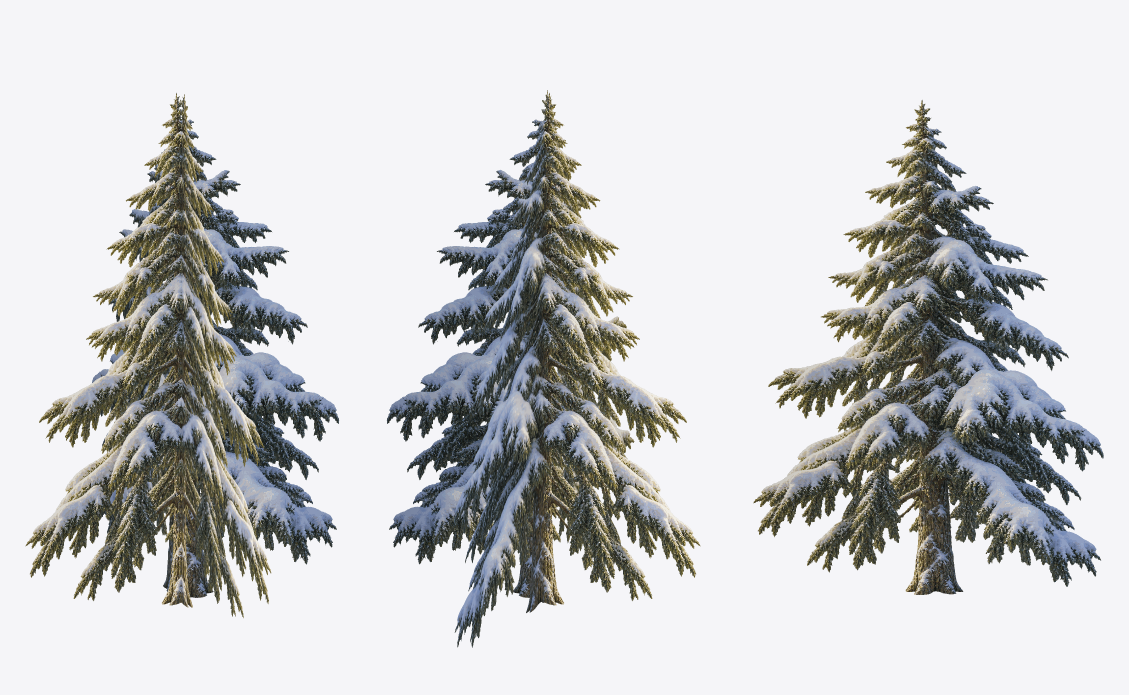
Rendered from pine-lod1.glb.
The picture shows the model from 3 angles, left to right: view 1: azimuth 30°, elevation 25°; view 2: azimuth 150°, elevation 25°; view 3: azimuth 270°, elevation 25°; orthographic projection. The views are drawn at different scales.
Parts seen in each view (by area): view 1: pine-lod1; view 2: pine-lod1; view 3: pine-lod1.
Boxes of the visible parts, <box> form: pine-lod1: <box>25,93,338,617</box>; pine-lod1: <box>387,90,700,647</box>; pine-lod1: <box>753,100,1103,594</box>.
Size of the model in its own units: 3.23 by 4.85 by 3.23.
1 material, 1 textured.
